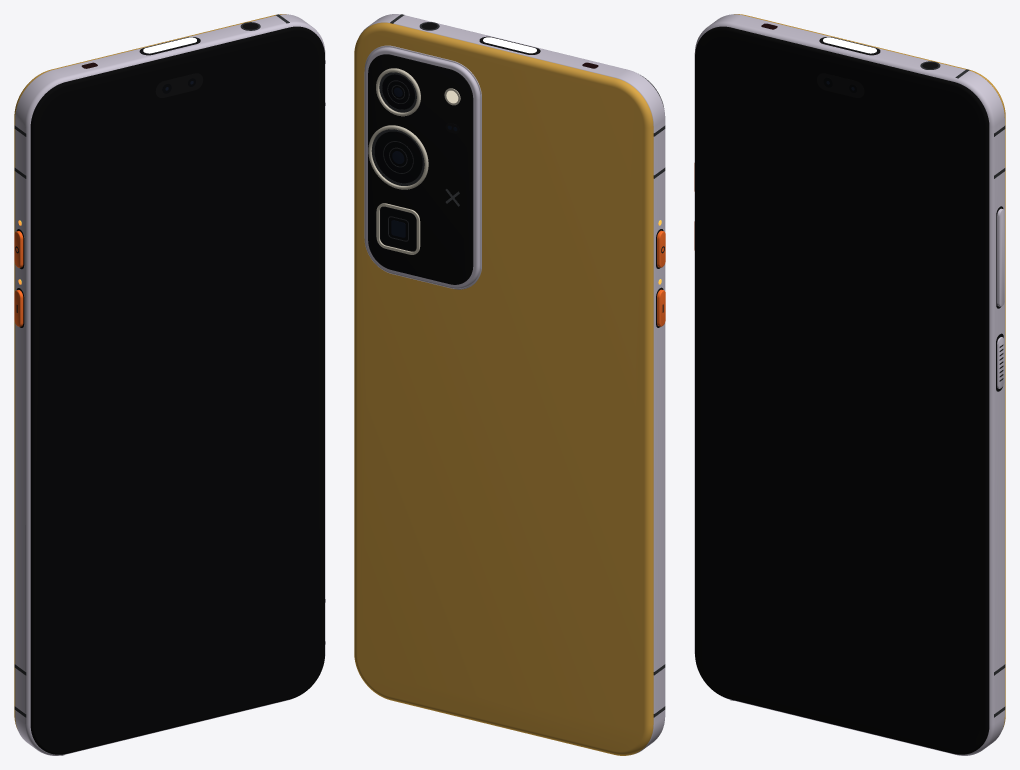
3 renders of one model, left to right at view 1: azimuth 30°, elevation 25°; view 2: azimuth 150°, elevation 25°; view 3: azimuth 330°, elevation 25°, orthographic.
Parts seen in each view (by area): view 1: Screen, Glass, Frame, Body, FrontPill; view 2: Body, CamPlate, Frame, CameraModules, CamIsland, Periscope; view 3: Screen, Glass, Frame, Body, FrontPill, VolumeRocker.
Part boxes in pixels (box(x1,y1,x2,y2)): Screen: box(40, 36, 318, 746); Glass: box(30, 26, 324, 754); Frame: box(15, 14, 325, 755); Body: box(14, 14, 286, 728); FrontPill: box(155, 73, 203, 97); Body: box(354, 22, 653, 755); CamPlate: box(368, 54, 473, 284); Frame: box(360, 14, 665, 755); CameraModules: box(368, 68, 459, 189); CamIsland: box(364, 45, 481, 289); Periscope: box(376, 203, 420, 254); Screen: box(701, 36, 980, 746); Glass: box(695, 26, 989, 754); Frame: box(694, 14, 1004, 755); Body: box(734, 14, 1005, 729); FrontPill: box(817, 73, 864, 97); VolumeRocker: box(997, 208, 1004, 306).
Bounding box in the file's own units: 0.076 × 0.1614 × 0.00991.
